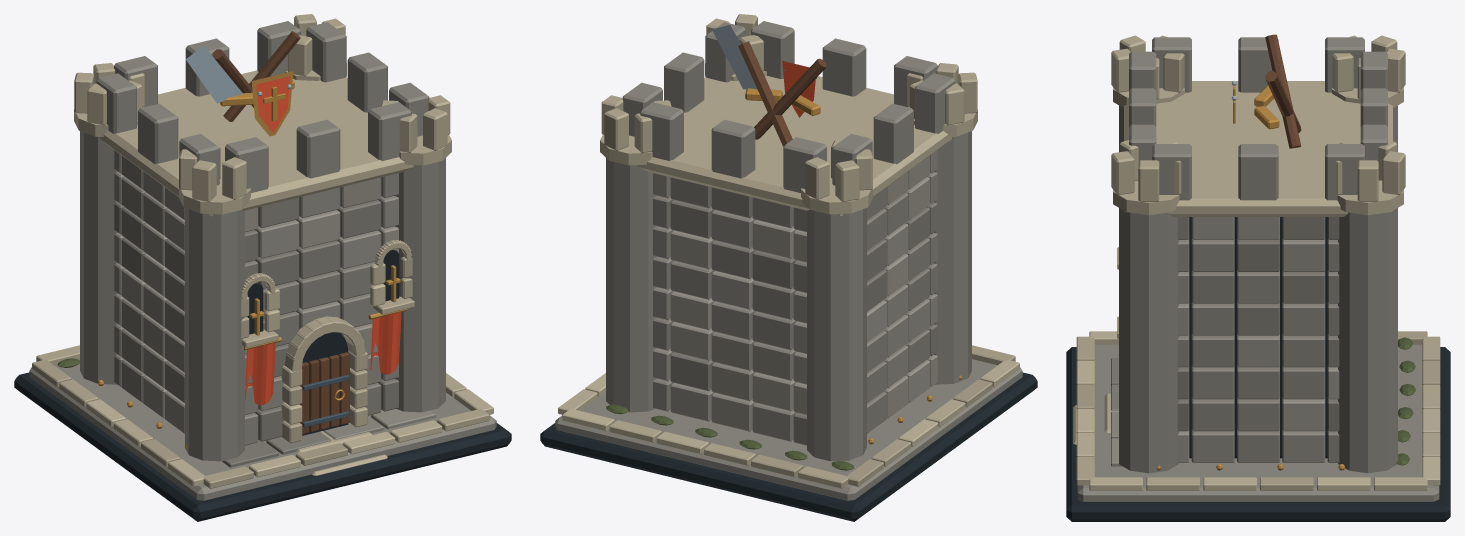
File: militia__guerreiro__L10.glb
3 views of the same model, side by side, from view 1: azimuth 30°, elevation 25°; view 2: azimuth 150°, elevation 25°; view 3: azimuth 270°, elevation 25° (orthographic). The views are drawn at different scales.
Visible parts, largest first — view 1: structure, weapon, banners; view 2: structure, weapon; view 3: structure, weapon.
Part boxes in pixels (box(x1,y1,x2,y2)): structure: box(14, 14, 511, 521); weapon: box(186, 31, 300, 136); banners: box(244, 309, 407, 405); structure: box(540, 14, 1037, 521); weapon: box(712, 25, 826, 146); structure: box(1066, 35, 1450, 521); weapon: box(1231, 34, 1301, 148).
Size of the model in its own units: 0.803 by 0.924 by 0.803.
